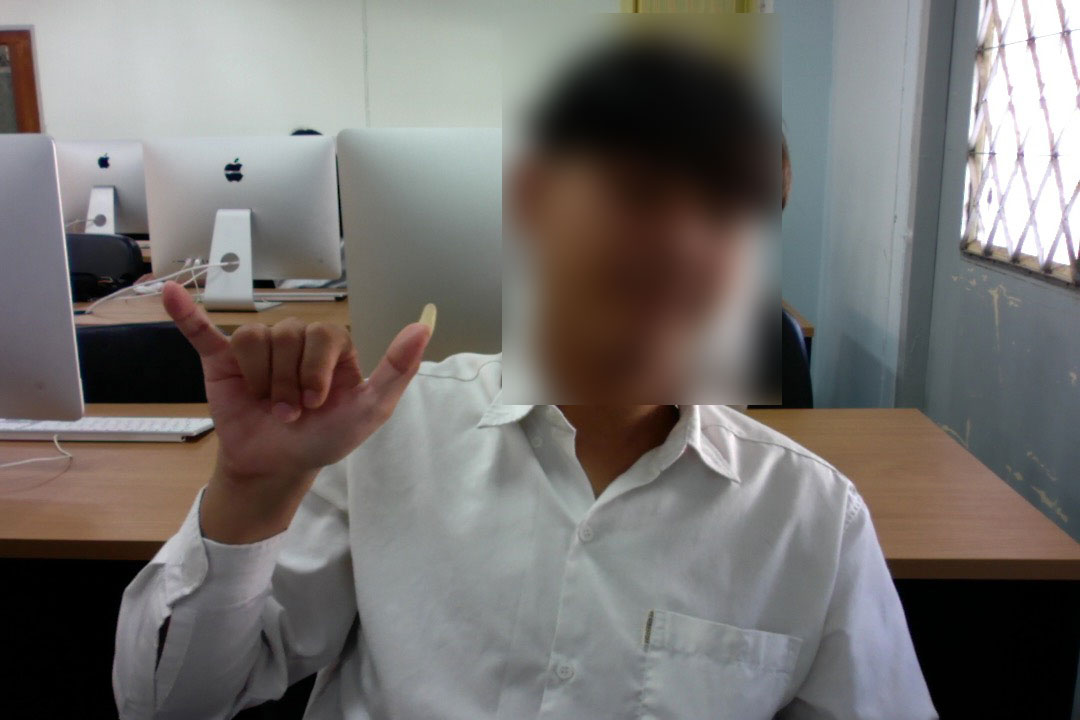yor: (153, 269, 442, 502)
